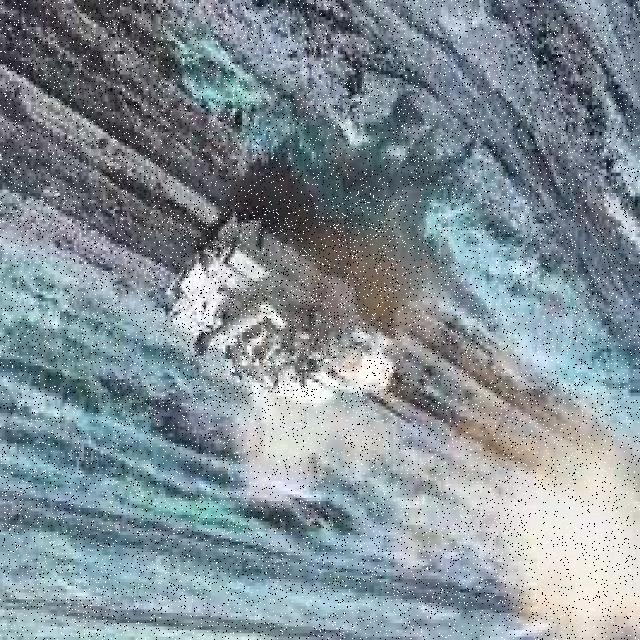MIL_MBT: (170, 200, 398, 406)
